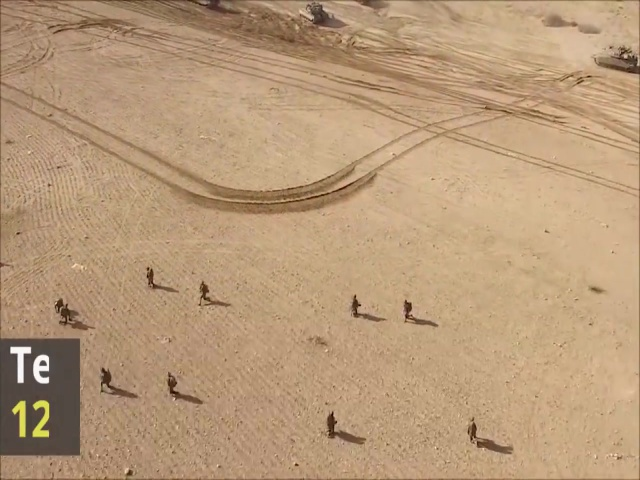person: (98, 366, 118, 395), (164, 371, 182, 398), (197, 278, 213, 308), (349, 292, 364, 320), (401, 298, 415, 324), (467, 417, 480, 445), (325, 410, 337, 439), (145, 267, 157, 290), (60, 304, 72, 325)
vehicle: (593, 44, 638, 72)
